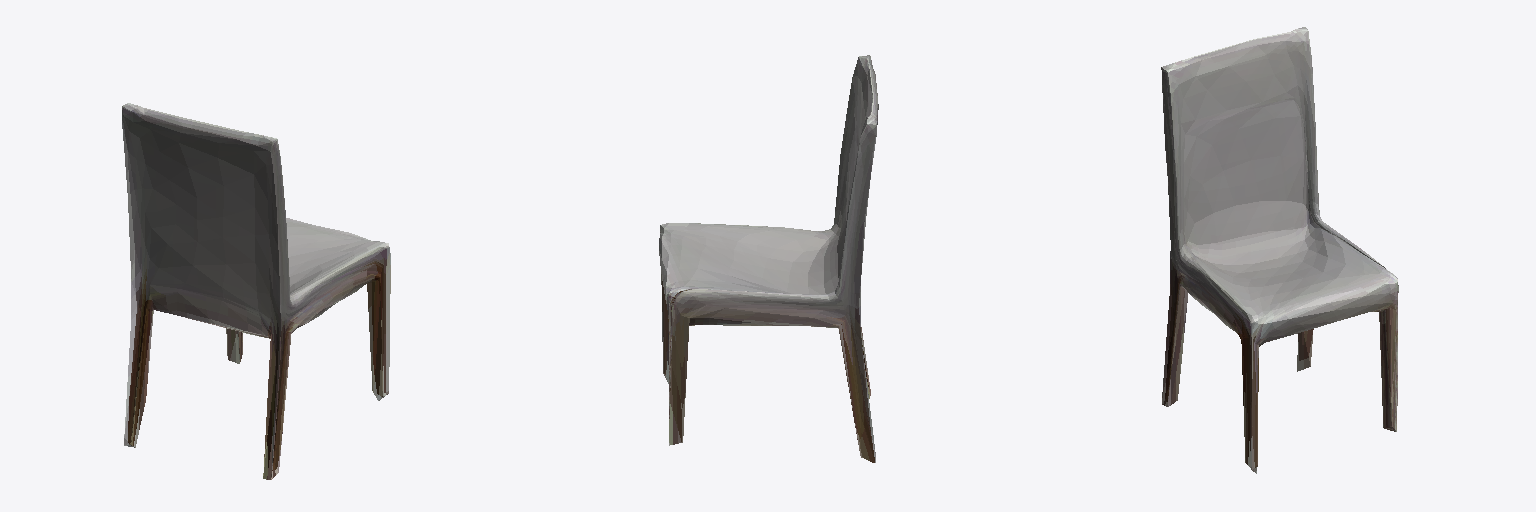
3 views of the same model, side by side, from view 1: azimuth 30°, elevation 25°; view 2: azimuth 150°, elevation 25°; view 3: azimuth 270°, elevation 25° (orthographic).
Bounding box in the file's own units: 0.7376 × 1 × 0.6254.
Materials: 1 (1 with a texture image).